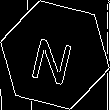N_N: (30, 26, 80, 84)
